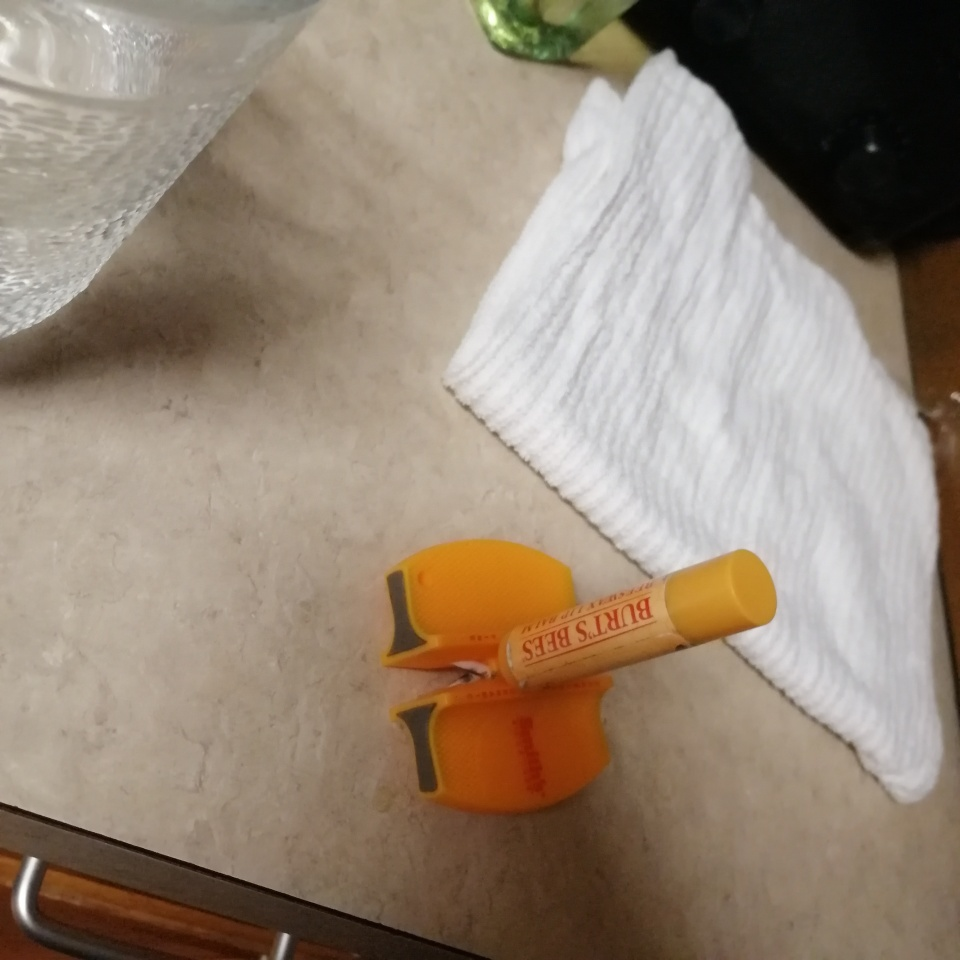chapstick: (500, 549, 778, 689)
